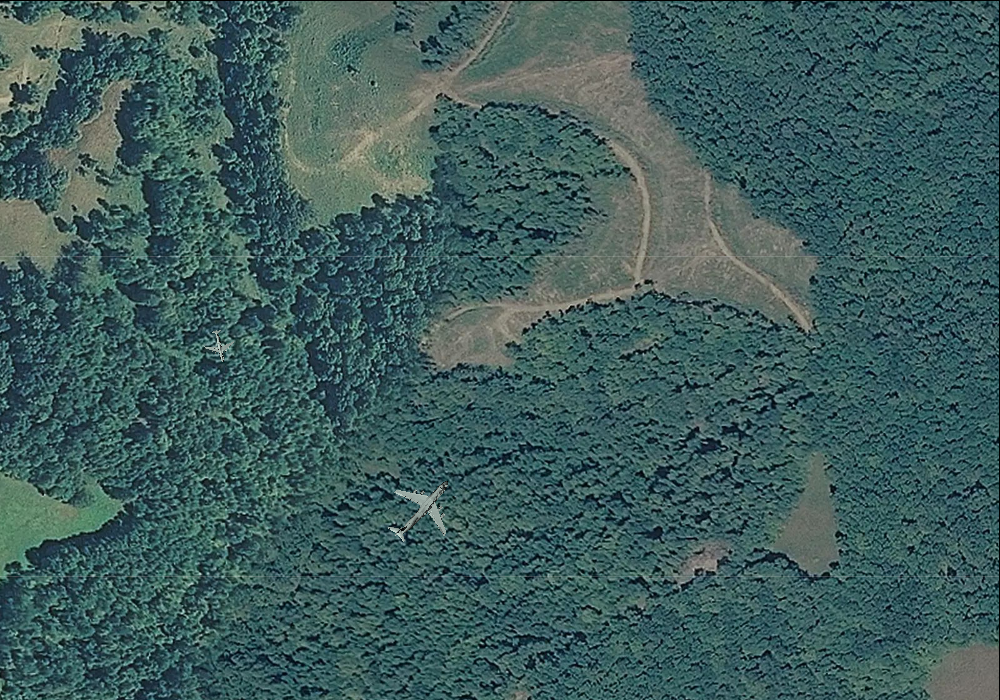plane: (368, 456, 473, 562), (201, 326, 237, 365)
